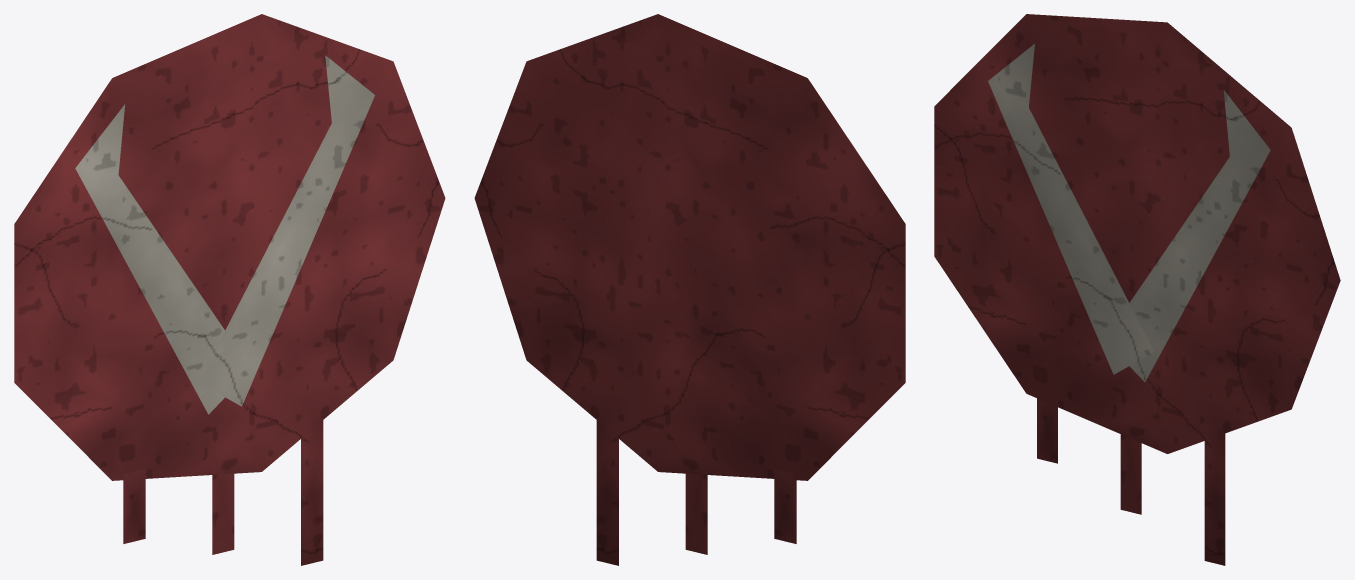
File: tag_prieurs.glb
3 views of the same model, side by side, from view 1: azimuth 30°, elevation 25°; view 2: azimuth 150°, elevation 25°; view 3: azimuth 330°, elevation 25° (orthographic). The views are drawn at different scales.
Visible parts, largest first — view 1: group_0, group_5; view 2: group_0; view 3: group_0, group_5.
Boxes of the visible parts, x1=… form: group_0: x1=14, y1=14, x2=445, y2=565; group_5: x1=75, y1=55, x2=374, y2=414; group_0: x1=474, y1=14, x2=905, y2=565; group_0: x1=934, y1=14, x2=1340, y2=565; group_5: x1=988, y1=43, x2=1270, y2=381.
Size of the model in its own units: 3.88 by 4.83 by 0.03.
2 materials, 2 textured.
